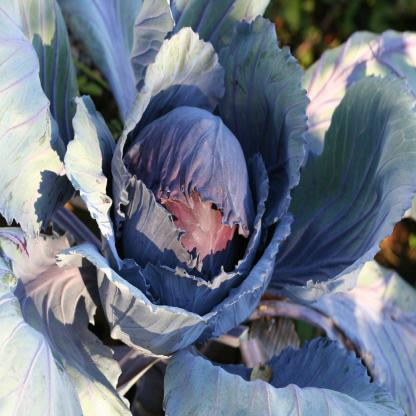Cabbage: (52, 27, 292, 360)
